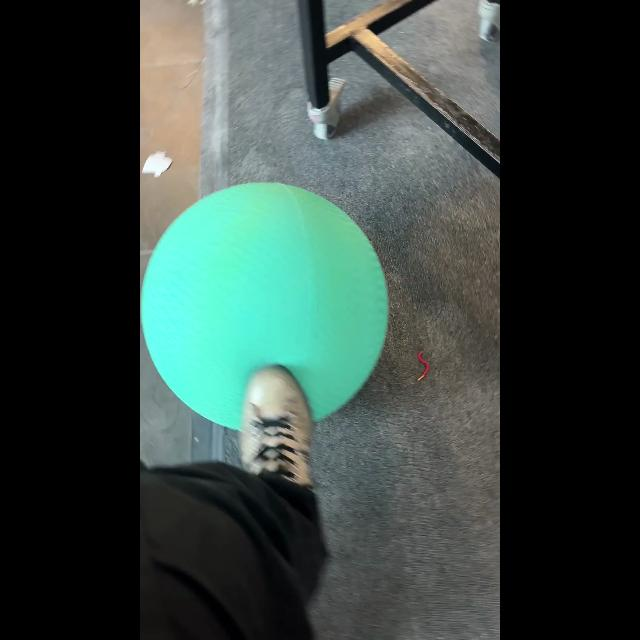ALGAE: (141, 180, 389, 432)
